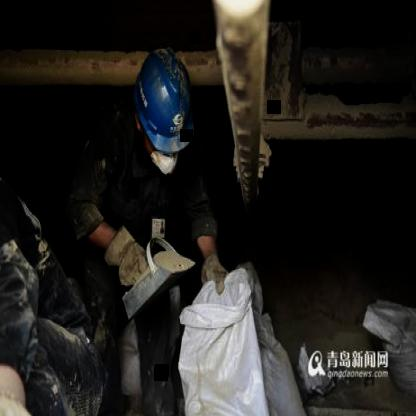helmet: (127, 46, 197, 174)
